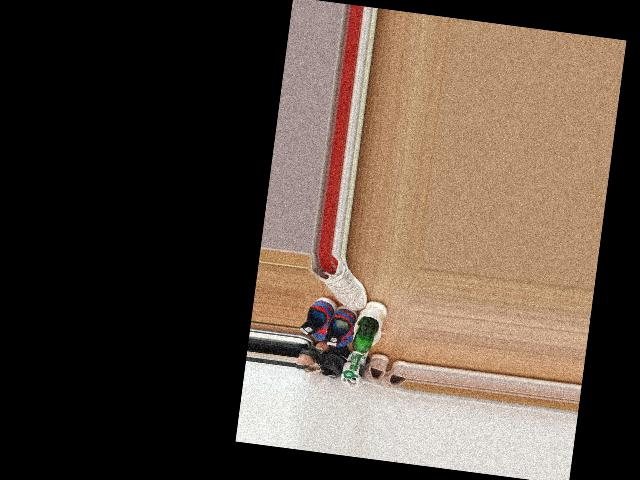beer: (349, 315, 379, 372)
